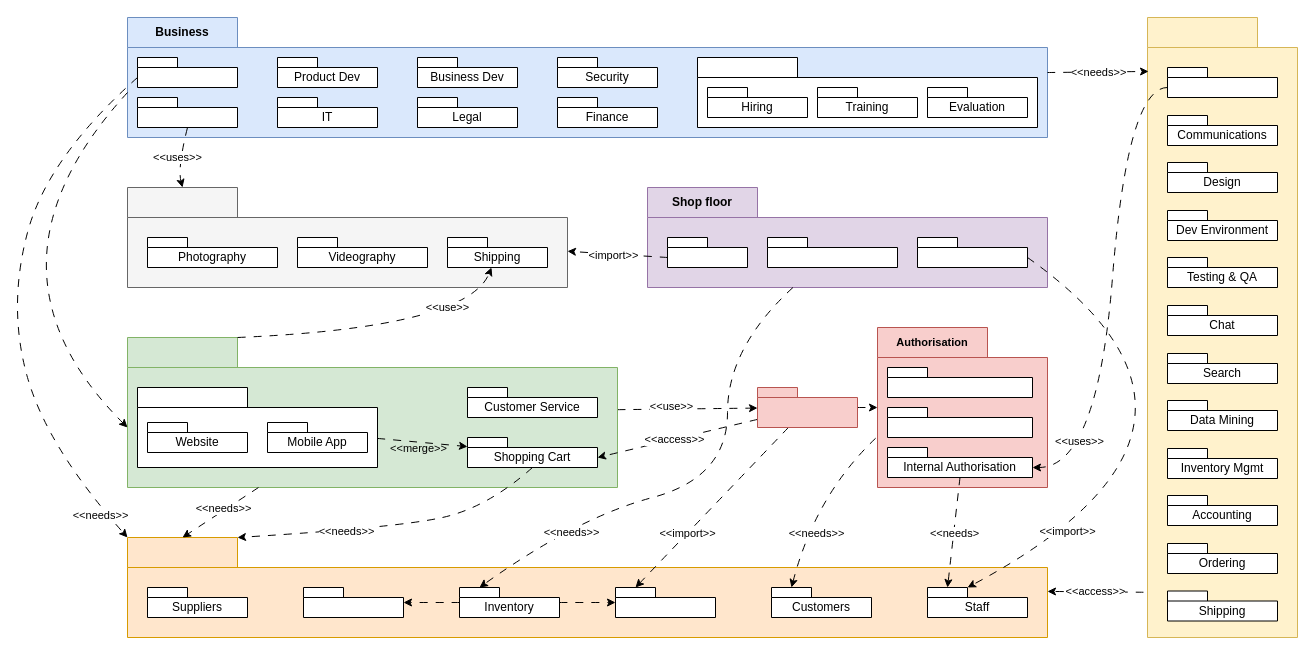
Some shapes in this 1315 by 655 pixel diagram are drawn without their labels. Each missing label, with the box of its shape:
Account Authorisation: (886, 406, 1032, 438)
Applications: (1146, 16, 1298, 638)
Data Analysis: (136, 56, 238, 88)
Databases: (126, 536, 1048, 638)
Displays: (666, 236, 748, 268)
External Services: (126, 186, 568, 288)
Interface: (136, 386, 378, 468)
Intranet: (1166, 66, 1278, 98)
Marketing: (136, 96, 238, 128)
Online store: (126, 336, 618, 488)
Orders: (614, 586, 716, 618)
Payment: (756, 386, 858, 428)
Payment Authorisation: (886, 366, 1032, 398)
Personnel: (696, 56, 1038, 128)
Products: (302, 586, 404, 618)
Roster: (916, 236, 1028, 268)
Stock on Shelves: (766, 236, 898, 268)
